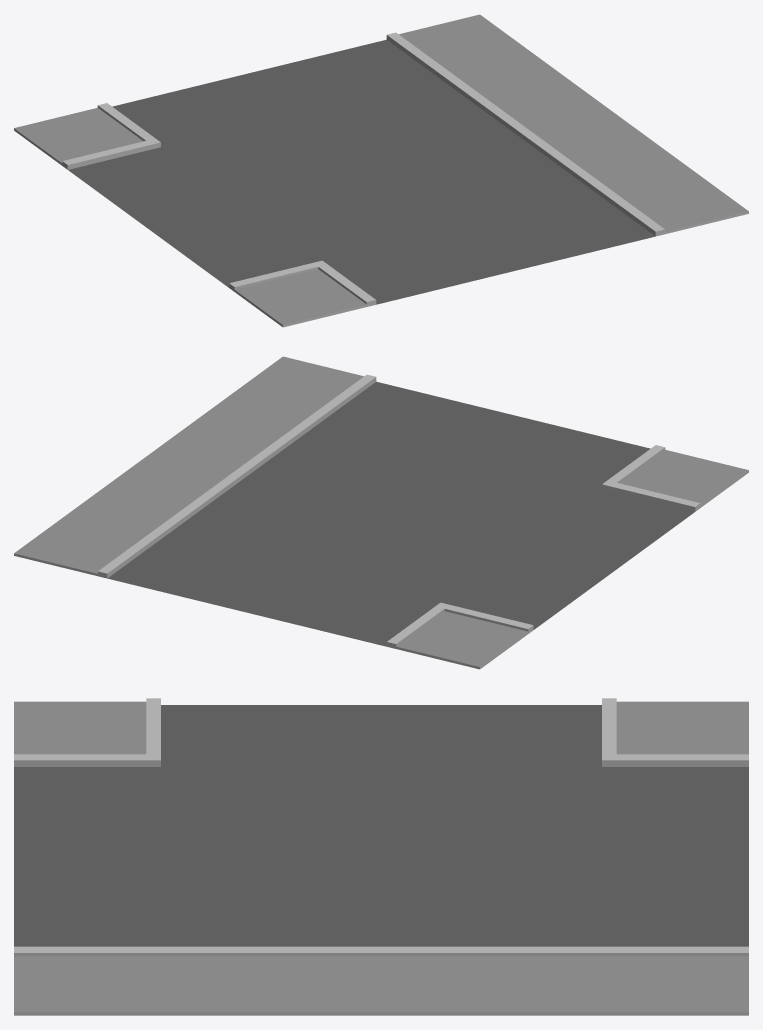
The model's file is street_3cross3.fbx.
3 views of the same model, one above another, from view 1: azimuth 30°, elevation 25°; view 2: azimuth 150°, elevation 25°; view 3: azimuth 270°, elevation 25° (orthographic). The views are drawn at different scales.
Visible parts, largest first — view 1: street_3cross3; view 2: street_3cross3; view 3: street_3cross3.
Part boxes in pixels (x1,y1,x2,y2): street_3cross3: (14, 14, 748, 327); street_3cross3: (14, 356, 748, 669); street_3cross3: (14, 698, 748, 1015).
Bounding box in the file's own units: 20 × 0.2 × 20.
